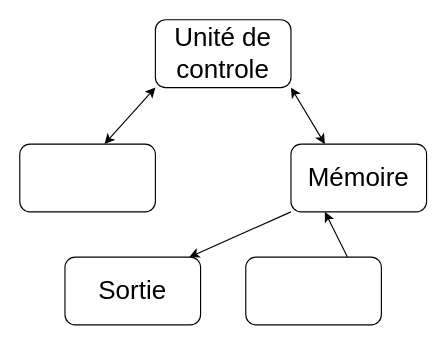
This 446x345 diagram has some shape labels left out. Here are the shapes that lost their labels. From the top down, the centre of each, then its label:
At [87,177]: "UAL".
At [313,290]: "Entrée".
